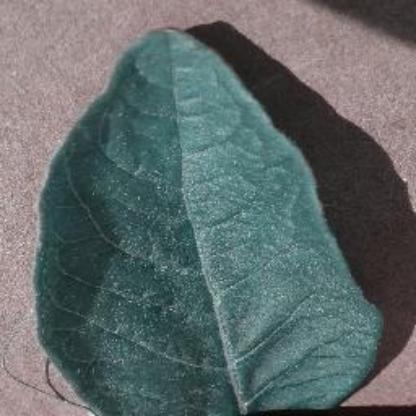Healthy-plant: (28, 23, 384, 415)
